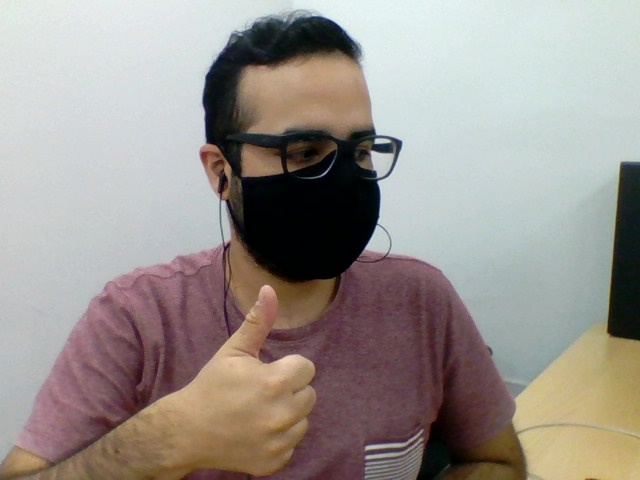ThumbsUp: (194, 285, 318, 476)
